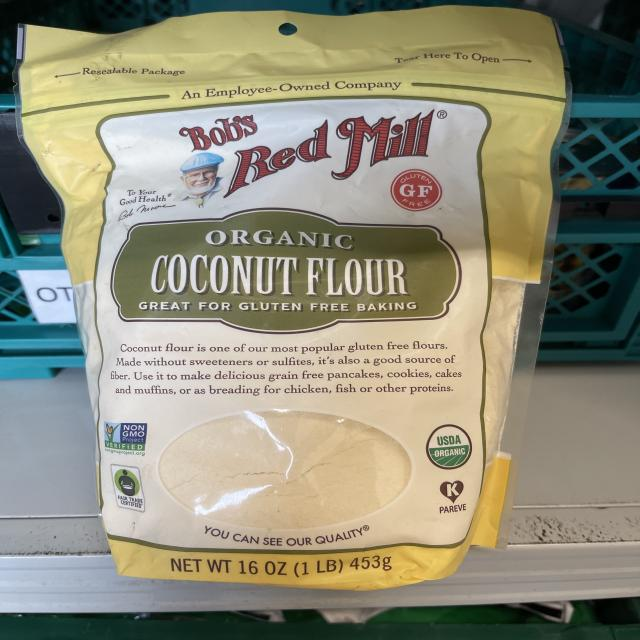object_name: (29, 32, 498, 555)
